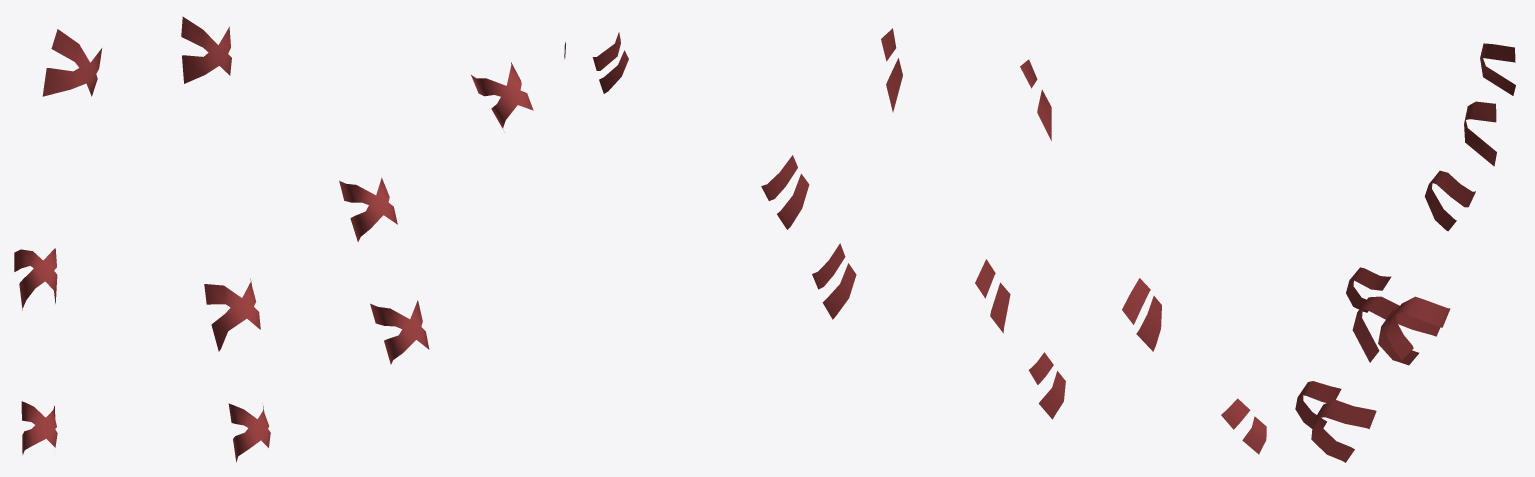
Rendered from cruciform-part-of-fibrous-sheath-of-digit-of-hand-r.glb.
3 views of the same model, side by side, from view 1: azimuth 30°, elevation 25°; view 2: azimuth 150°, elevation 25°; view 3: azimuth 270°, elevation 25° (orthographic). The views are drawn at different scales.
Parts seen in each view (by area): view 1: Cruciform part of fibrous sheath of digit of hand.r; view 2: Cruciform part of fibrous sheath of digit of hand.r; view 3: Cruciform part of fibrous sheath of digit of hand.r.
Boxes of the visible parts, box(x1,y1,x2,y2) form: Cruciform part of fibrous sheath of digit of hand.r: box(14, 16, 533, 462); Cruciform part of fibrous sheath of digit of hand.r: box(564, 28, 1266, 454); Cruciform part of fibrous sheath of digit of hand.r: box(1295, 43, 1515, 462).
Size of the model in its own units: 0.0817 by 0.0564 by 0.0309.
